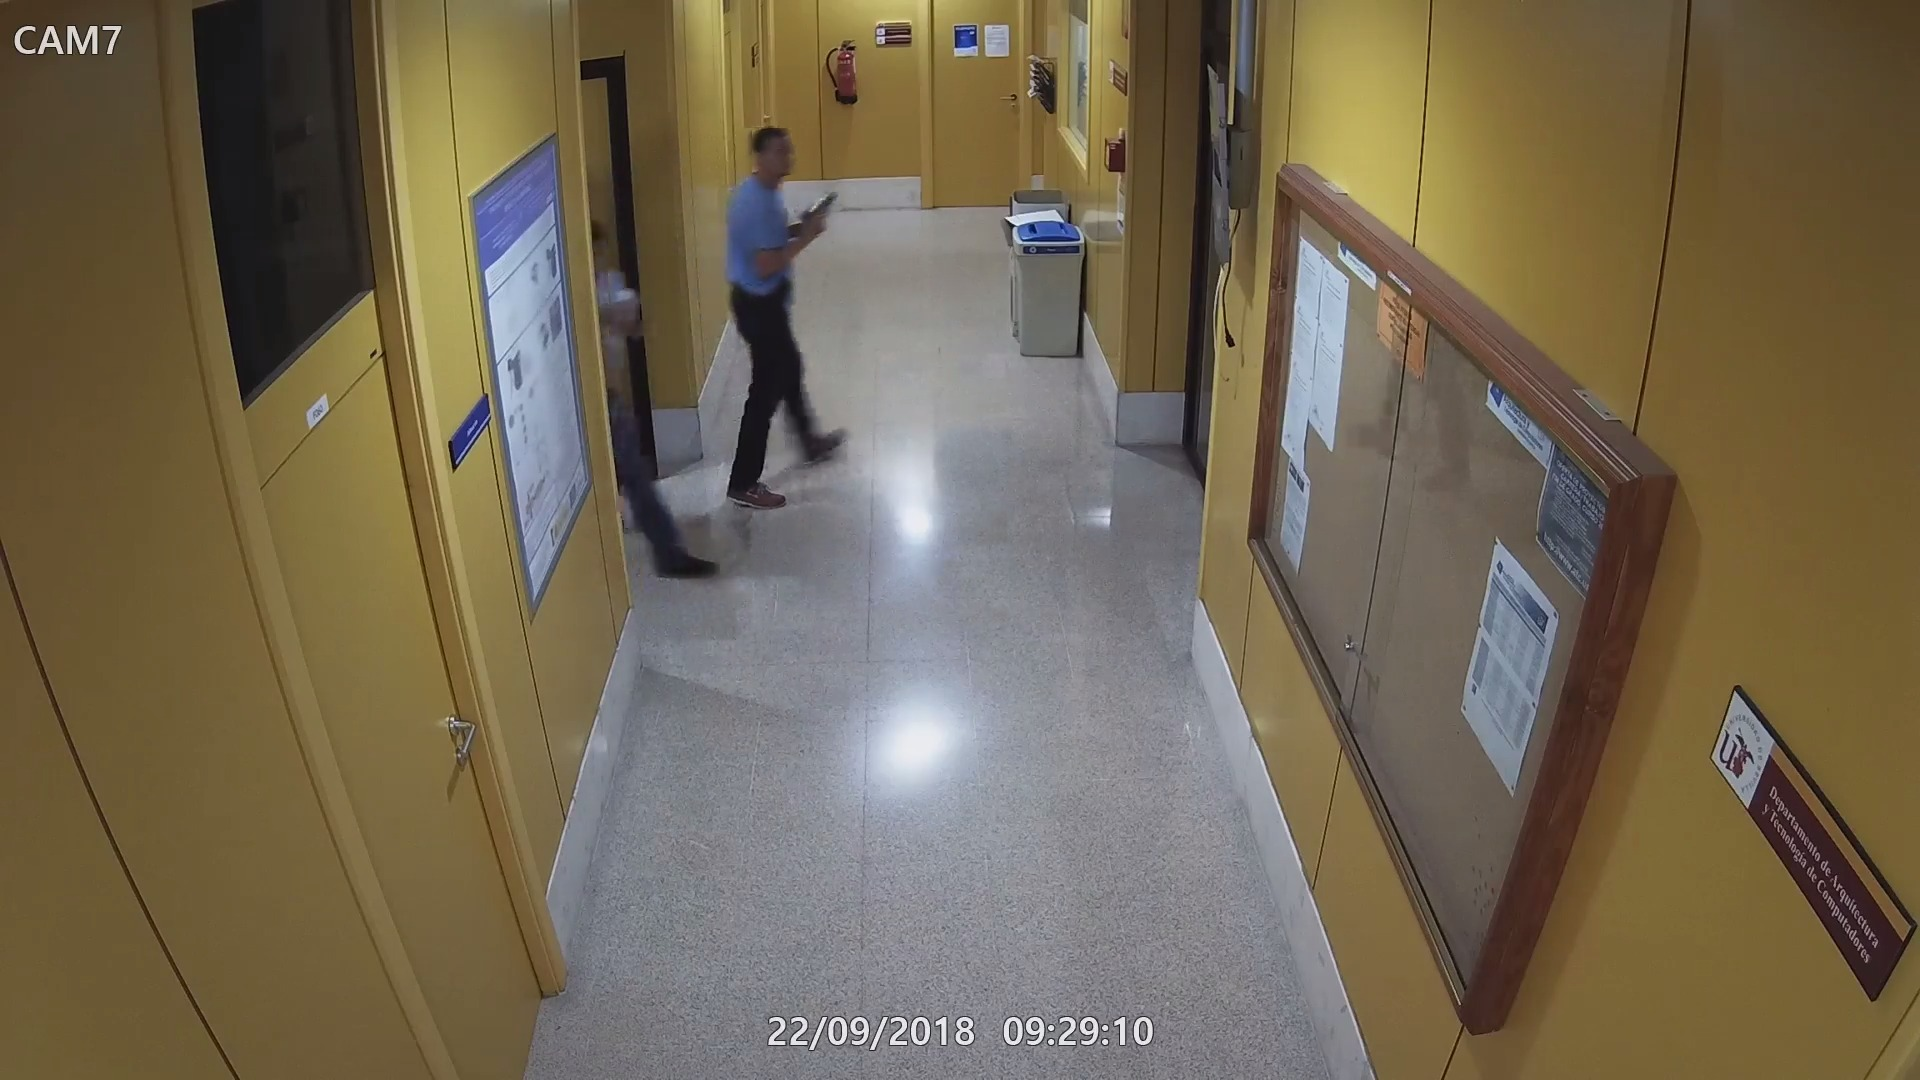Handgun: (796, 187, 837, 237)
